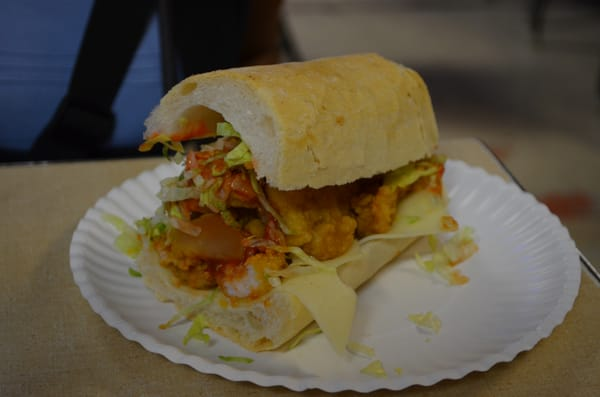soup: (130, 53, 452, 317)
